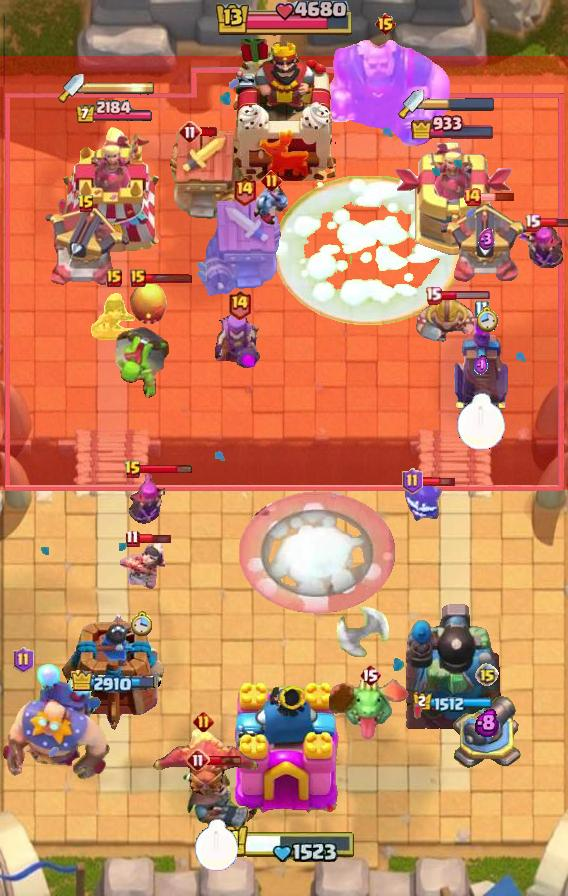bar: (55, 126, 173, 256), (395, 142, 514, 256)
bar-level: (112, 322, 172, 398)
clock: (212, 820, 356, 862), (213, 1, 355, 39)
electro-spirit: (475, 708, 499, 737), (477, 228, 495, 252), (474, 355, 488, 377)
electro-wizard: (329, 677, 411, 743)
elixir: (456, 393, 506, 451), (194, 819, 239, 872), (130, 610, 154, 636), (475, 305, 498, 332)
emote: (140, 465, 193, 476), (441, 290, 492, 301), (143, 273, 193, 284), (421, 475, 456, 488), (137, 531, 172, 544), (207, 754, 243, 766), (481, 192, 516, 202), (540, 217, 568, 229), (200, 126, 219, 138)
evolution-symbol: (516, 219, 568, 277), (125, 472, 165, 532)
goblin-giant: (415, 295, 477, 343)
hog: (129, 282, 169, 326)
ice-spirit-evolution-symbol: (451, 319, 511, 411)
king-tower: (222, 680, 346, 826), (232, 39, 336, 181)
king-tower-bar: (84, 81, 156, 95), (424, 97, 496, 111)
lava-pup: (440, 202, 532, 284), (42, 207, 130, 289)
lightning: (314, 37, 457, 151)
little-prince: (0, 661, 112, 781)
mother-witch: (145, 729, 261, 801)
phoenix-big: (272, 175, 463, 325)
phoenix-small: (181, 765, 251, 833)
queen-tower: (62, 613, 166, 731)
rascal-girl: (213, 312, 265, 374)
royal-delivery: (251, 182, 291, 226)
royal-giant: (335, 596, 391, 658)
royal-recruit: (450, 690, 524, 776)
selected: (410, 112, 496, 140), (70, 670, 157, 696), (74, 99, 154, 125), (414, 691, 495, 713)
skeleton-dragon: (88, 292, 140, 350), (116, 539, 168, 591)
sparky: (164, 130, 250, 228), (201, 200, 287, 298)
spear-goblin: (404, 477, 448, 525)
text: (231, 175, 256, 206), (227, 289, 252, 320), (178, 120, 202, 144), (475, 663, 499, 687), (186, 748, 210, 772), (374, 12, 397, 36), (401, 468, 422, 494), (14, 647, 35, 673), (359, 663, 381, 687), (261, 169, 282, 191), (193, 712, 215, 733), (462, 187, 482, 207), (77, 194, 95, 214), (124, 460, 142, 480), (524, 213, 541, 231), (426, 287, 443, 305), (106, 269, 122, 287), (130, 269, 146, 287), (124, 528, 139, 547), (475, 301, 490, 319)
tower-bar: (403, 601, 503, 731)
wall-breaker: (240, 490, 396, 613)
